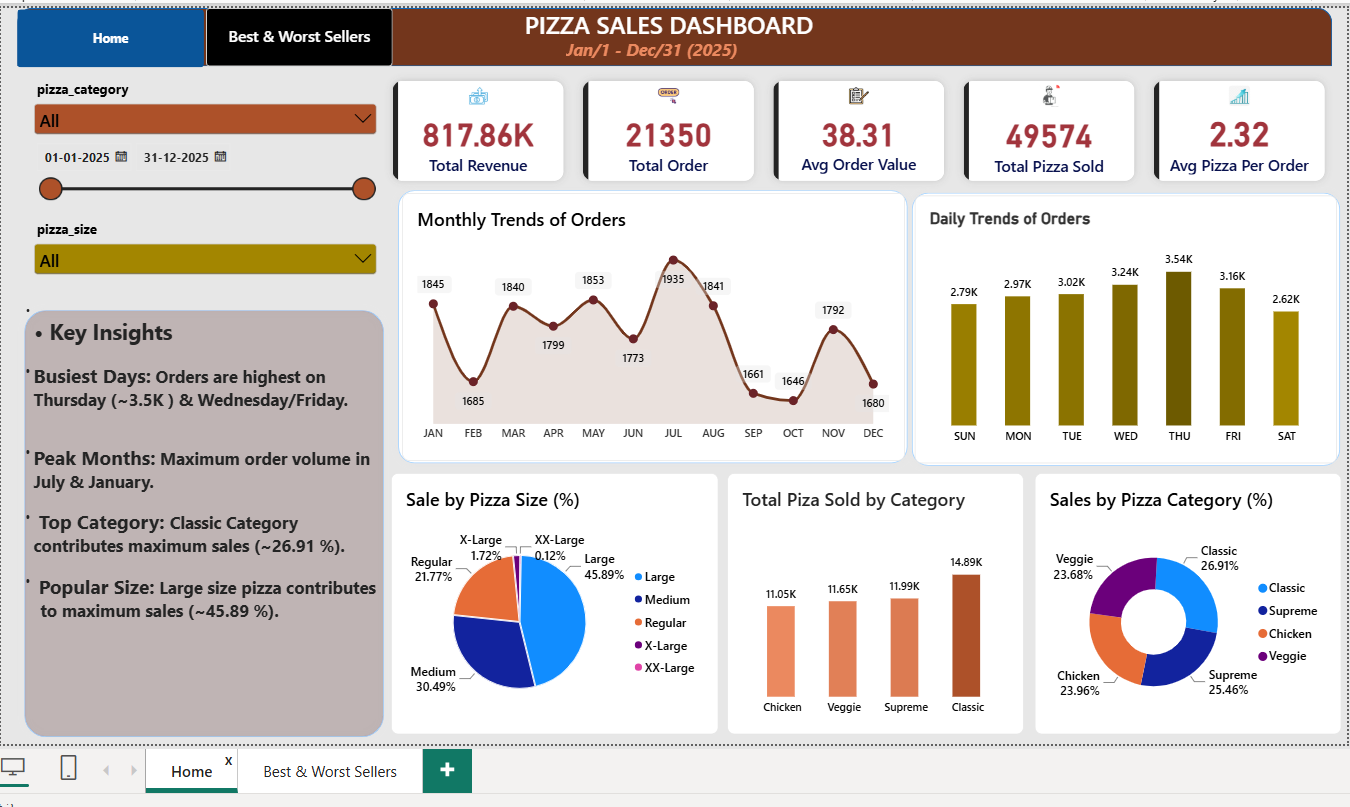

The dashboard page shown, as its layout file describes it:
{"tool":"powerbi","page":{"name":"Home","canvas":[1500,820],"ordinal":0},"visuals":[{"type":"cardVisual","fields":{"Data":["pizza_db pizza_sales.Total Revenue","pizza_db pizza_sales.Total Order","pizza_db pizza_sales.Avg Order Value","pizza_db pizza_sales.Total Pizza Sold","pizza_db pizza_sales.Avg Pizza Per Order"]},"box":[420.6,65.5,1072,143],"z":0},{"type":"shape","box":[17.5,0,1465,65],"z":1000},{"type":"textbox","box":[583.5,0,332.8,37.6],"z":2000},{"type":"textbox","box":[629.5,33.4,204.7,32],"z":3000},{"type":"shape","box":[1006.9,197.8,493,320.3],"z":4000},{"type":"columnChart","title":"Daily Trends of Orders","fields":{"Category":["pizza_db pizza_sales.Order_day"],"Y":["pizza_db pizza_sales.Total Order"]},"box":[1018,208.9,470.7,298],"z":5000},{"type":"shape","box":[434.5,195,583.5,320.3],"z":6000},{"type":"areaChart","title":"Monthly Trends of Orders","fields":{"Category":["pizza_db pizza_sales.Order_month"],"Y":["pizza_db pizza_sales.Total Order"]},"box":[447,206.1,559.9,298],"z":7000},{"type":"donutChart","title":"Sales by Pizza Category (%)","fields":{"Category":["pizza_db pizza_sales.pizza_category"],"Y":["pizza_db pizza_sales.Total Revenue"]},"box":[1151.7,518.1,341.2,291.1],"z":8000},{"type":"columnChart","title":"Total Piza Sold by Category","fields":{"Category":["pizza_db pizza_sales.pizza_category"],"Y":["pizza_db pizza_sales.Total Pizza Sold"]},"box":[809.1,518.1,330.1,291.1],"z":9000},{"type":"pieChart","title":"Sale by Pizza Size (%)","fields":{"Category":["pizza_db pizza_sales.pizza_size"],"Y":["pizza_db pizza_sales.Total Revenue"]},"box":[434.5,518.1,364.9,291.1],"z":10000},{"type":"shape","box":[18.1,328.7,416.4,491.6],"z":11000},{"type":"slicer","fields":{"Values":["pizza_db pizza_sales.pizza_category"]},"box":[32,79.4,391.3,66.8],"z":12000},{"type":"slicer","fields":{"Values":["pizza_db pizza_sales.order_date"]},"box":[32,146.2,388.6,72.4],"z":13000},{"type":"slicer","fields":{"Values":["pizza_db pizza_sales.pizza_size"]},"box":[32,235.4,391.3,66.8],"z":14000},{"type":"textbox","box":[18.1,328.7,417.8,491.6],"z":15000},{"type":"pageNavigator","box":[18.1,1.4,208.9,65.5],"z":16000},{"type":"pageNavigator","box":[228.4,0,208.9,65.5],"z":16001}]}

Visuals, with their boxes on the page's 1500x820 design canvas (x1, y1, x2, y2). These are canvas units, not pixel positions in the 1350x807 screenshot, which may show the page scaled, cropped or inside an application window:
cardVisual - pizza_db pizza_sales.Total Revenue x pizza_db pizza_sales.Total Order: x1=421, y1=66, x2=1493, y2=208
shape: x1=18, y1=0, x2=1482, y2=65
textbox: x1=584, y1=0, x2=916, y2=38
textbox: x1=630, y1=33, x2=834, y2=65
shape: x1=1007, y1=198, x2=1500, y2=518
"Daily Trends of Orders" columnChart: x1=1018, y1=209, x2=1489, y2=507
shape: x1=434, y1=195, x2=1018, y2=515
"Monthly Trends of Orders" areaChart: x1=447, y1=206, x2=1007, y2=504
"Sales by Pizza Category (%)" donutChart: x1=1152, y1=518, x2=1493, y2=809
"Total Piza Sold by Category" columnChart: x1=809, y1=518, x2=1139, y2=809
"Sale by Pizza Size (%)" pieChart: x1=434, y1=518, x2=799, y2=809
shape: x1=18, y1=329, x2=434, y2=820
slicer - pizza_db pizza_sales.pizza_category: x1=32, y1=79, x2=423, y2=146
slicer - pizza_db pizza_sales.order_date: x1=32, y1=146, x2=421, y2=219
slicer - pizza_db pizza_sales.pizza_size: x1=32, y1=235, x2=423, y2=302
textbox: x1=18, y1=329, x2=436, y2=820
pageNavigator: x1=18, y1=1, x2=227, y2=67
pageNavigator: x1=228, y1=0, x2=437, y2=66
